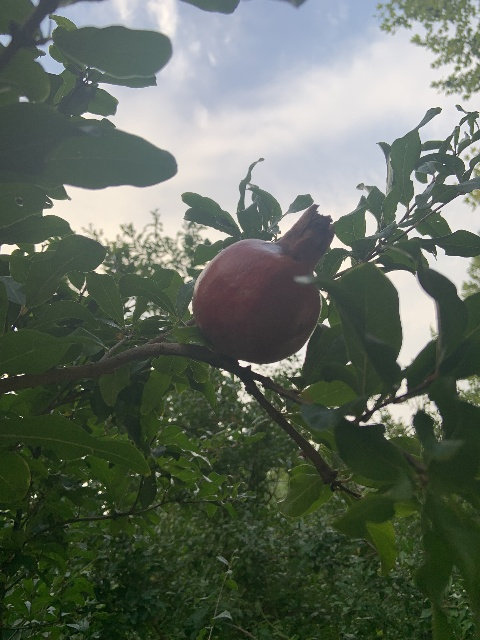ripe: (191, 202, 335, 362)
